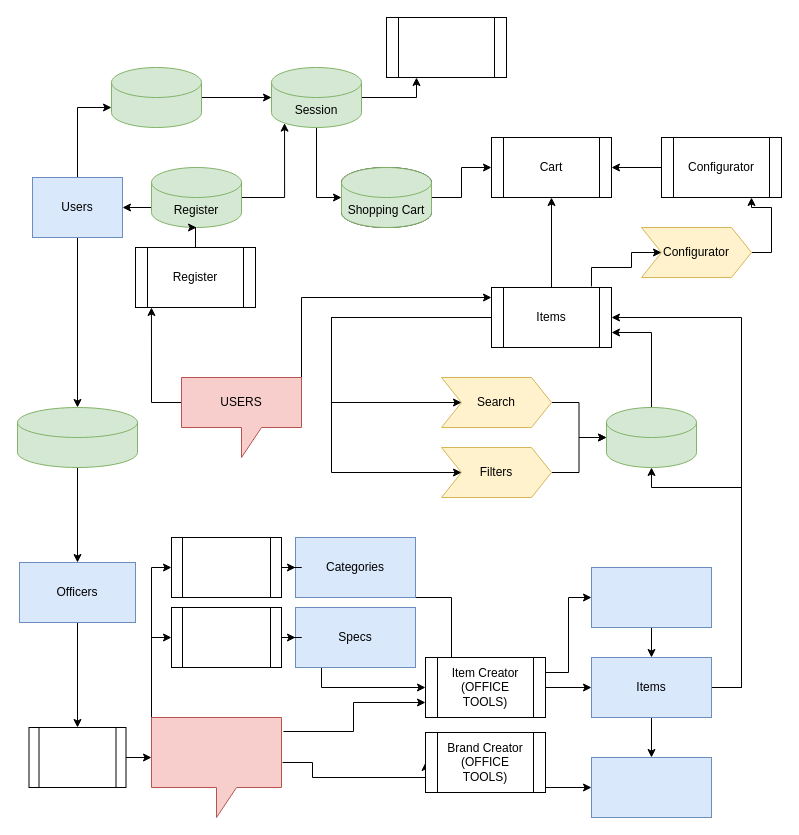
This 799x835 diagram has some shape labels left out. The centre of each missing label's shape, as x and y in pixels:
Account options: pixel 446 47
AUTH: pixel 77 437
Brands: pixel 651 787
Category Creator (OFFICE TOOLS): pixel 226 567
Images: pixel 651 597
Login: pixel 156 97
OFFICE: pixel 77 757
OFFICERS INPUT: pixel 216 767
Search/Filters: pixel 651 437
Spec Creator (OFFICE TOOLS): pixel 226 637
